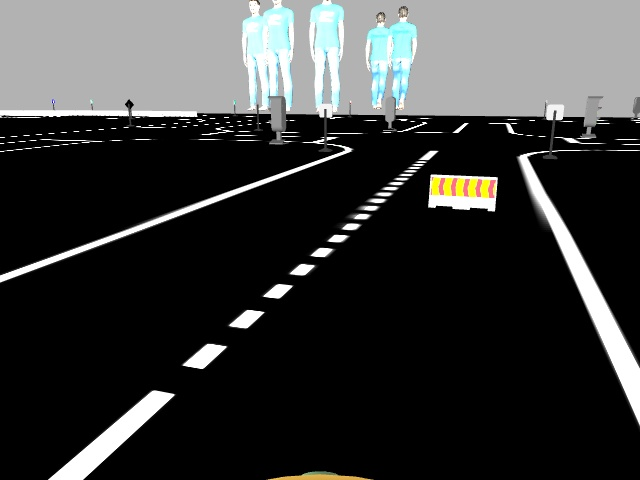ClosedRoadStand: (430, 174, 496, 209)
